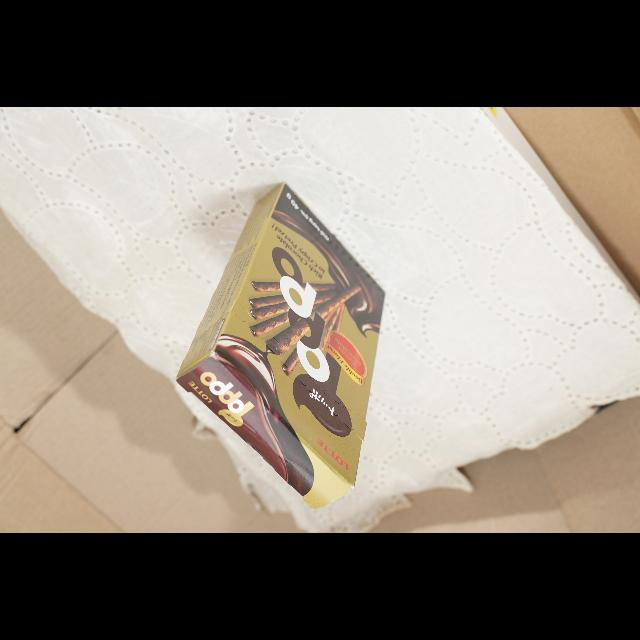banh_toppo_socola: (177, 184, 384, 509)
